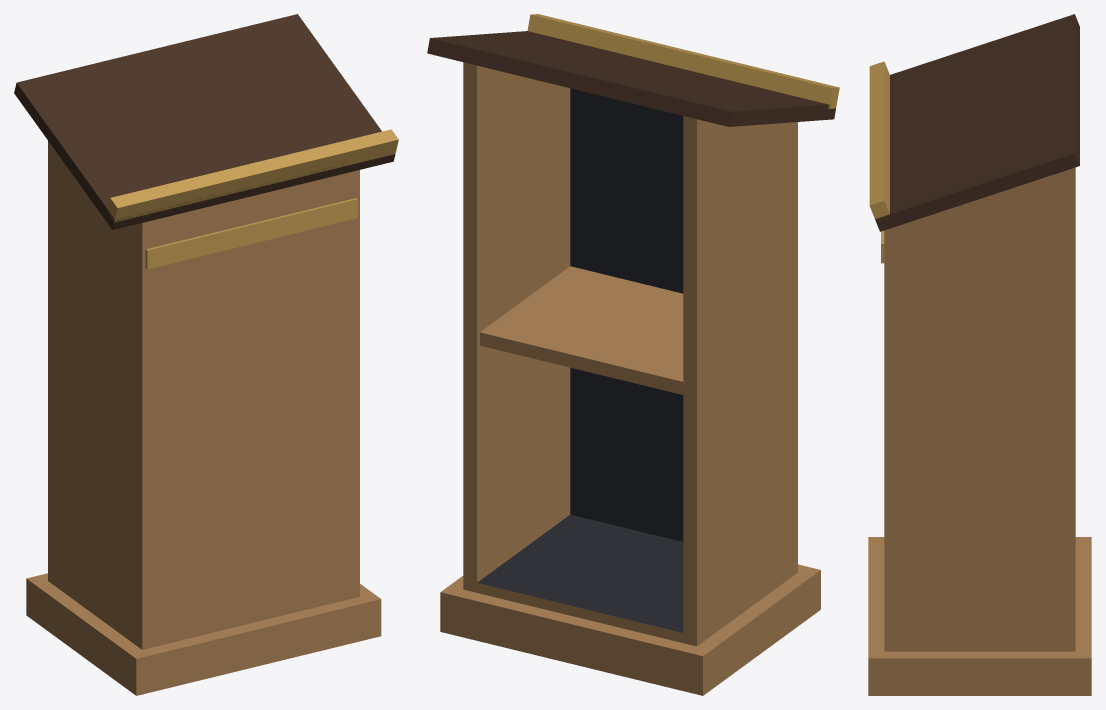
Rendered from FN_Lectern.glb.
3 views of the same model, side by side, from view 1: azimuth 30°, elevation 25°; view 2: azimuth 150°, elevation 25°; view 3: azimuth 270°, elevation 25° (orthographic). The views are drawn at different scales.
Parts seen in each view (by area): view 1: FN_Lectern; view 2: FN_Lectern; view 3: FN_Lectern.
Part boxes in pixels (box(x1,y1,x2,y2)): FN_Lectern: box(14, 14, 398, 695); FN_Lectern: box(427, 14, 839, 695); FN_Lectern: box(868, 14, 1091, 695).
Size of the model in its own units: 0.62 by 1.14 by 0.42.
Materials: 1 (1 with a texture image).
